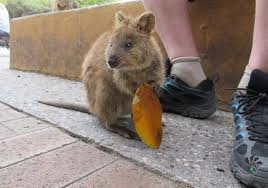quokka: (40, 12, 173, 140)
